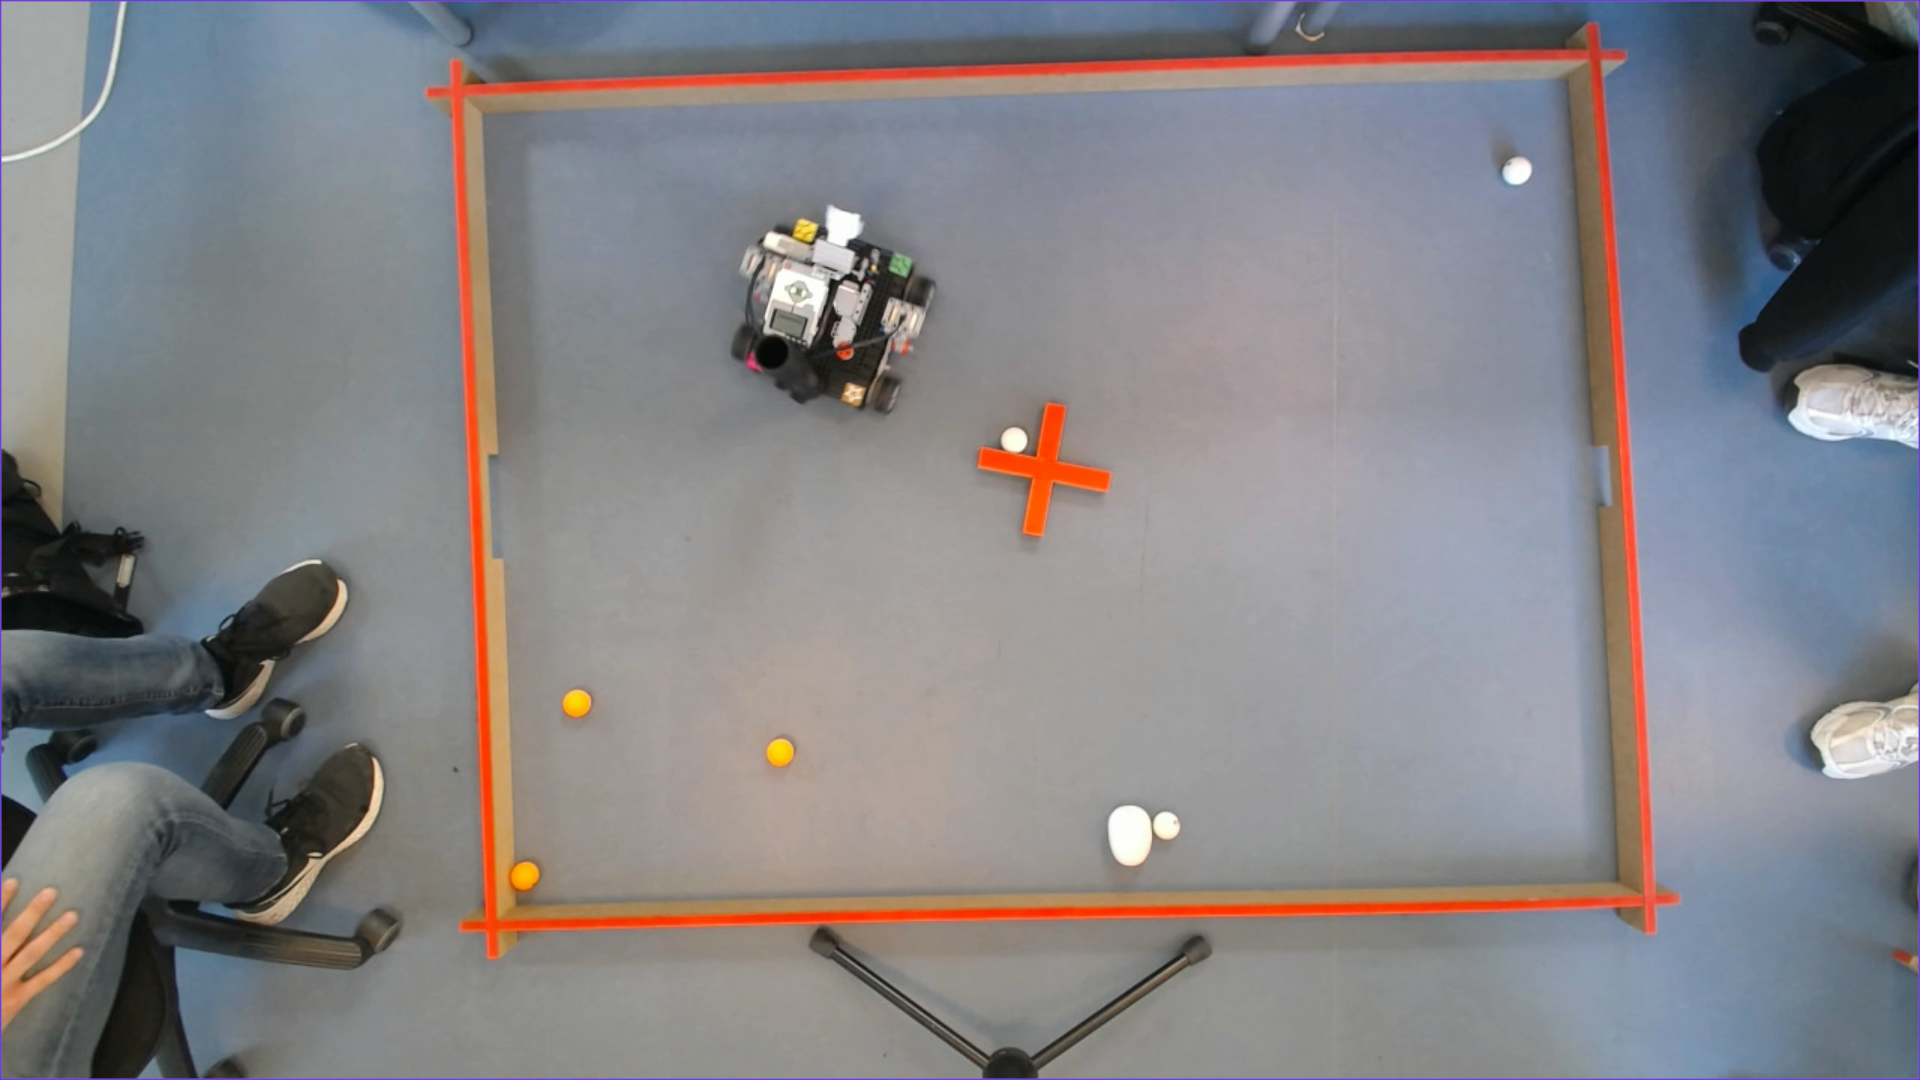ball_orange: (510, 858, 541, 891), (562, 688, 591, 717), (766, 738, 794, 765)
ball_white: (1502, 158, 1534, 187), (1154, 810, 1182, 843), (997, 427, 1029, 452)
corner_brown: (840, 382, 866, 407)
corner_green: (890, 255, 914, 280)
corner_pink: (742, 351, 769, 371)
corner_yellow: (793, 218, 819, 243)
cross: (975, 402, 1112, 537)
egg: (1104, 808, 1153, 866)
playfield: (426, 46, 1683, 936)
